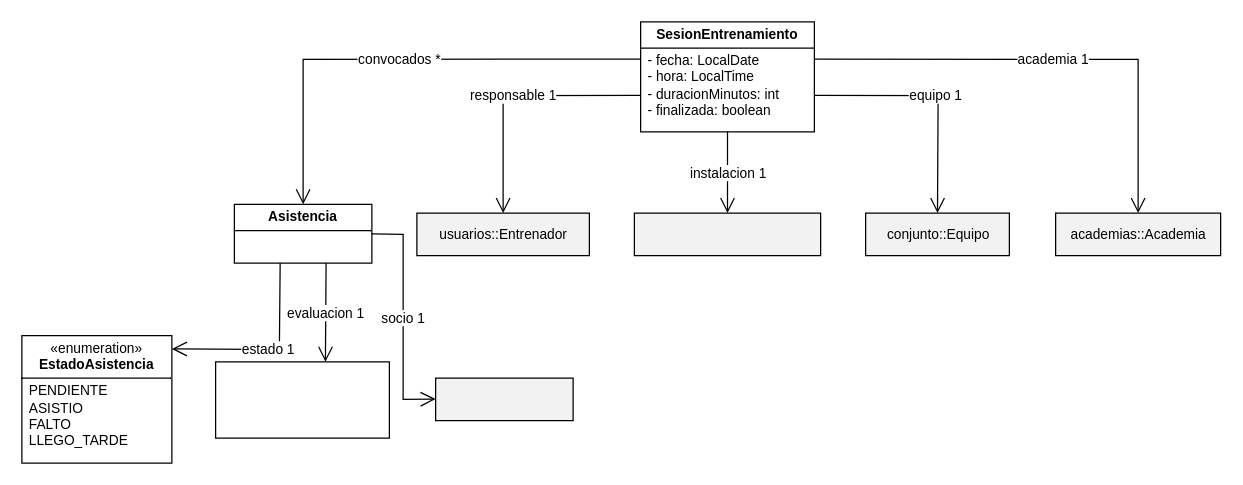
Image size: 1243x485. Some labels were removed from this diagram. The shapes that lost their labels are listed below. From the top down, each one's centre as x and y in pixels, then its label:
At (x=727, y=234): "academias::Instalacion".
At (x=301, y=399): "EvaluacionDesempeno - nota: int - comentario: String".
At (x=503, y=399): "usuarios::Socio".
